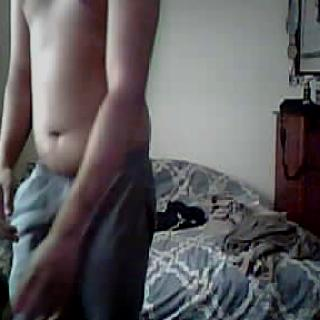Blue Sweatpants: (0, 149, 159, 320)
